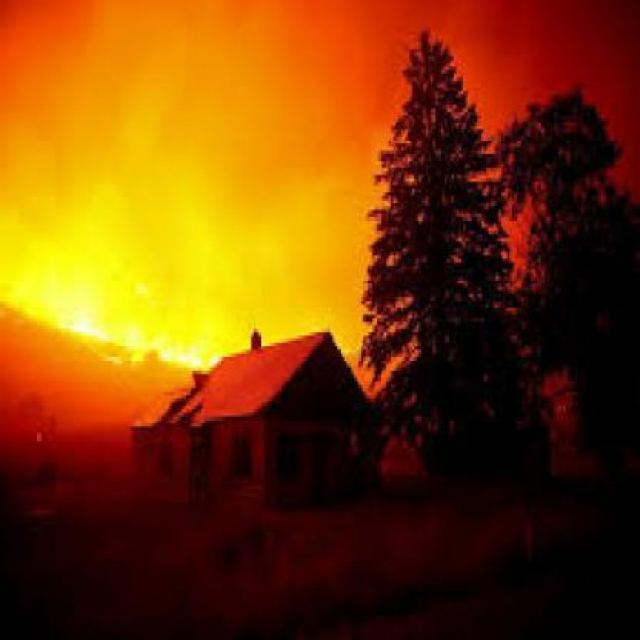Fire: (4, 210, 390, 409)
Smoke: (0, 3, 372, 210)
